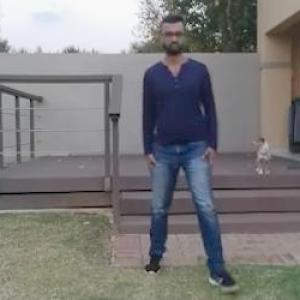follow: (139, 18, 203, 271)
